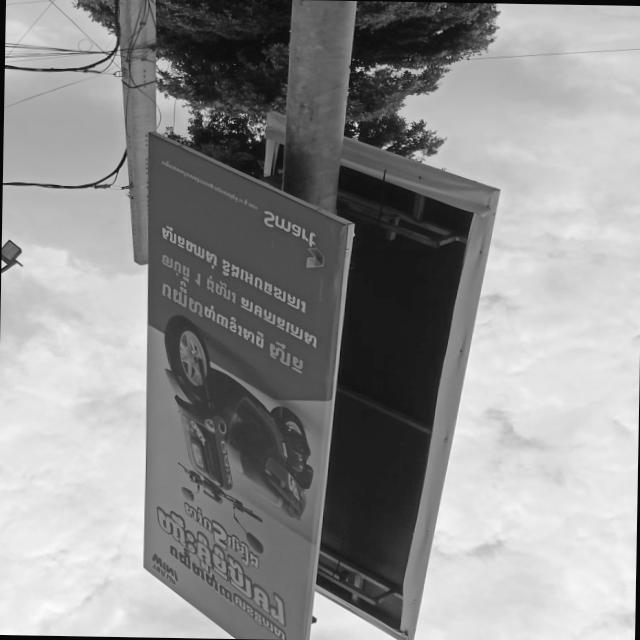1: (157, 219, 322, 325)
152: (180, 495, 274, 583)
96: (156, 249, 330, 362)
Yolov11kh: (148, 491, 291, 634), (150, 268, 312, 380), (164, 534, 275, 639)
